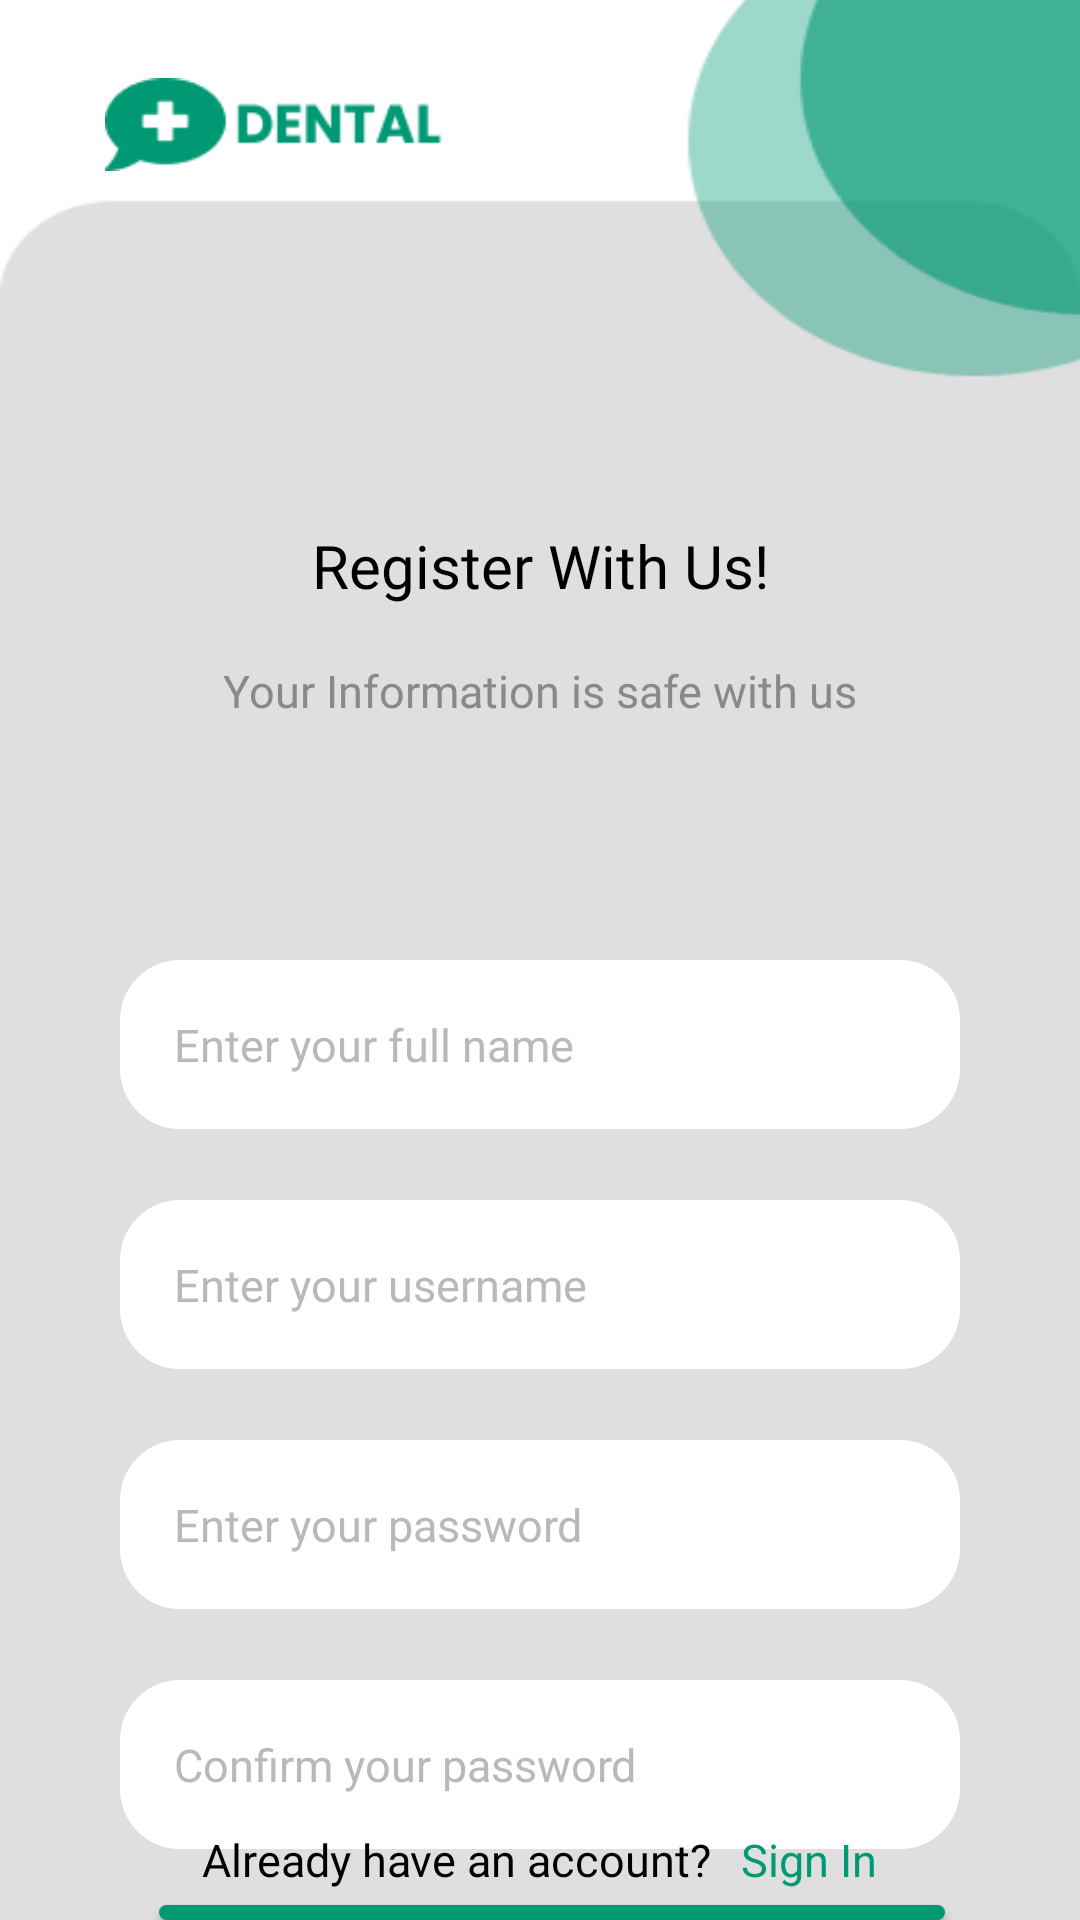

Locate icon controls on the screen. Image size 1080x1920, boxes as (x1, y1, x2, y2).
iconwithname: (105, 78, 442, 171)
